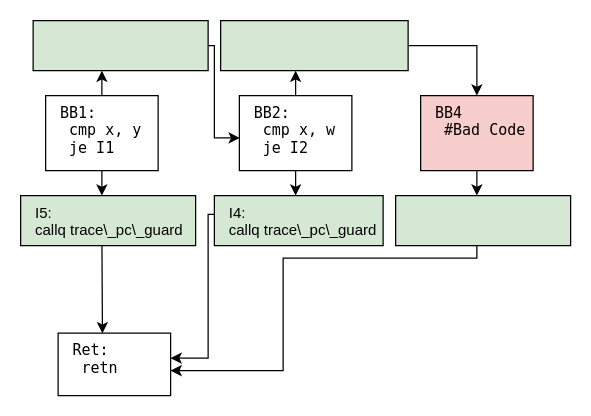
The diagram is 591 pixels wide and 416 high, and some of its shapes have lost their labels. Here are the shapes that lost their labels. From the top down, the box of each, then its label:
(32, 19, 208, 71): I1: callq trace\_pc\_guard
(219, 19, 408, 71): I2: callq trace\_pc\_guard
(394, 194, 571, 246): I3: callq trace\_pc\_guard
